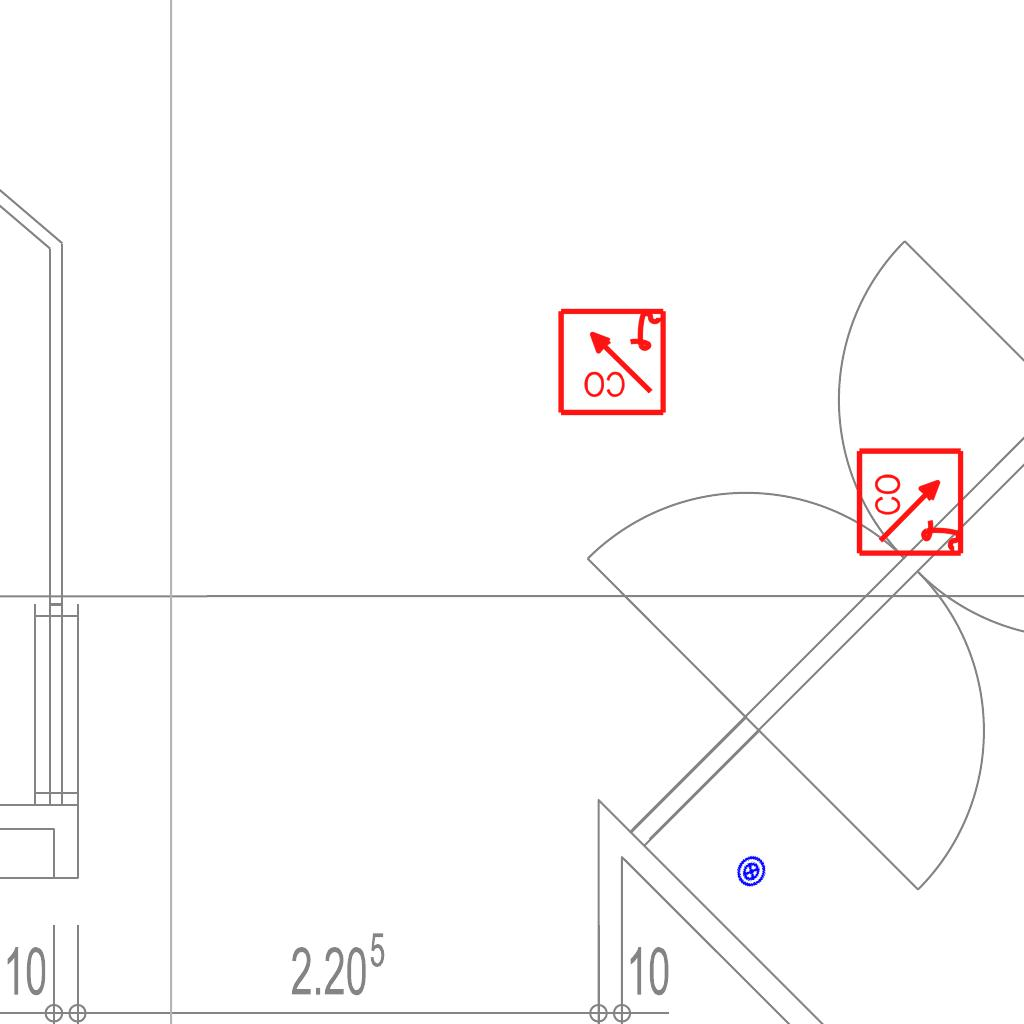ROA_Rauchmelder_optisch_mit_Signalgeber_(Sockelsirene): (555, 304, 668, 417), (855, 445, 968, 558)
Taster_beleuchtet: (729, 849, 774, 894)
